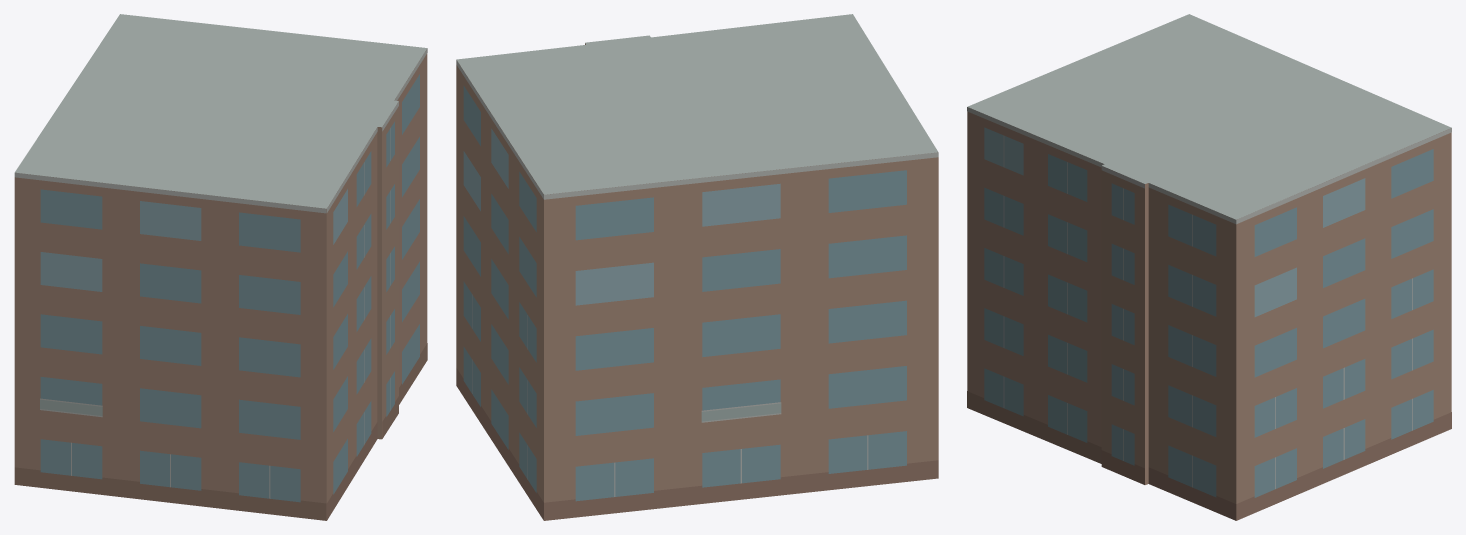
File: survey-upis-32584713.glb
The picture shows the model from 3 angles, left to right: view 1: azimuth 30°, elevation 25°; view 2: azimuth 150°, elevation 25°; view 3: azimuth 270°, elevation 25°; orthographic projection. The views are drawn at different scales.
Parts seen in each view (by area): view 1: survey-upis-32584713.tmp; view 2: survey-upis-32584713.tmp; view 3: survey-upis-32584713.tmp.
Boxes of the visible parts, x1=… form: survey-upis-32584713.tmp: x1=14, y1=14, x2=427, y2=520; survey-upis-32584713.tmp: x1=456, y1=14, x2=938, y2=520; survey-upis-32584713.tmp: x1=967, y1=14, x2=1451, y2=520.
Size of the model in its own units: 23.46 by 16 by 23.34.
